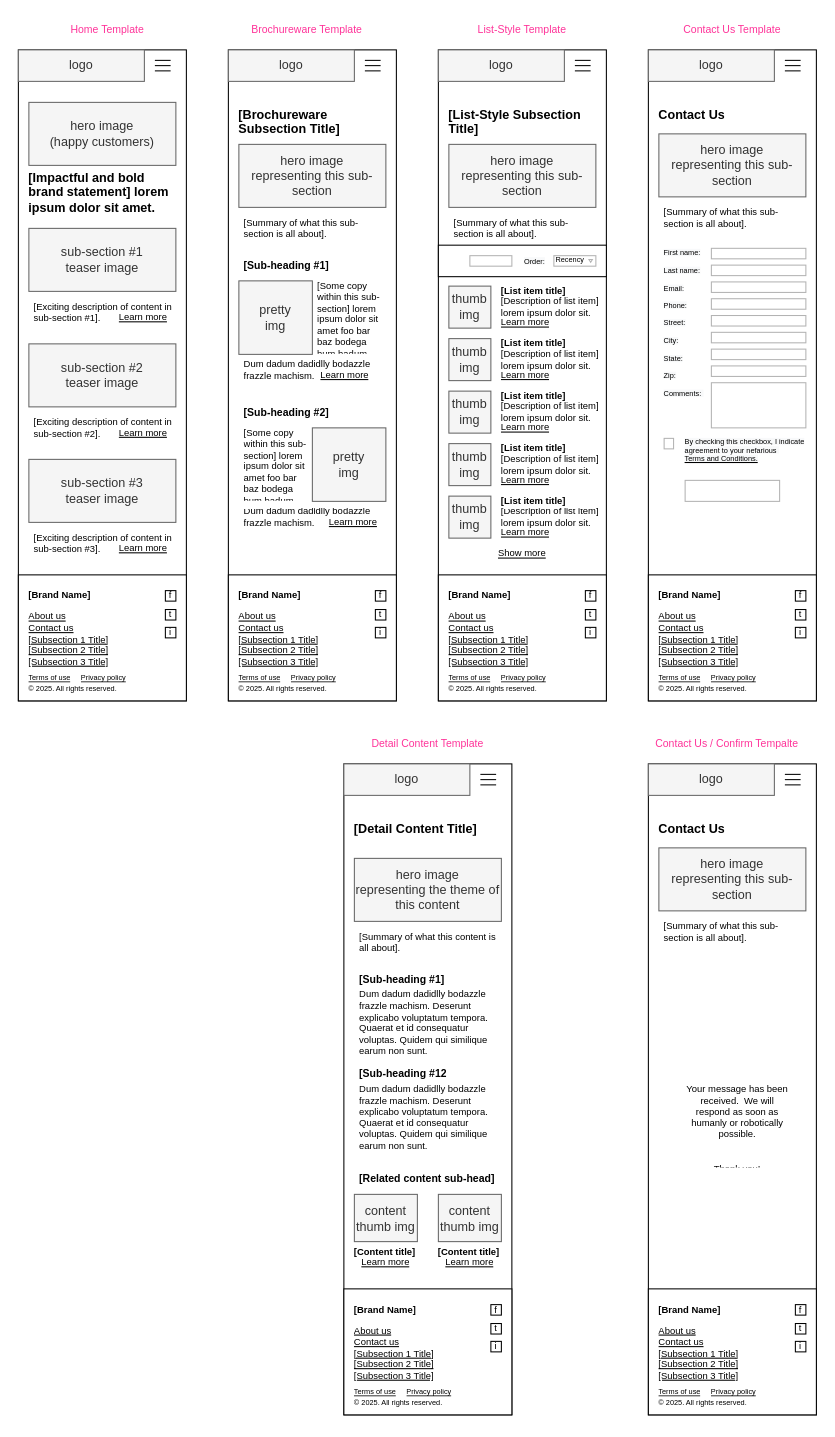
Image size: 835x1437. Some labels were removed from this diagram. The box of each missing label's shape, as (x1, y1, x2, y2) in pixels:
Search:: (437, 244, 606, 277)
Submit: (684, 479, 780, 501)
